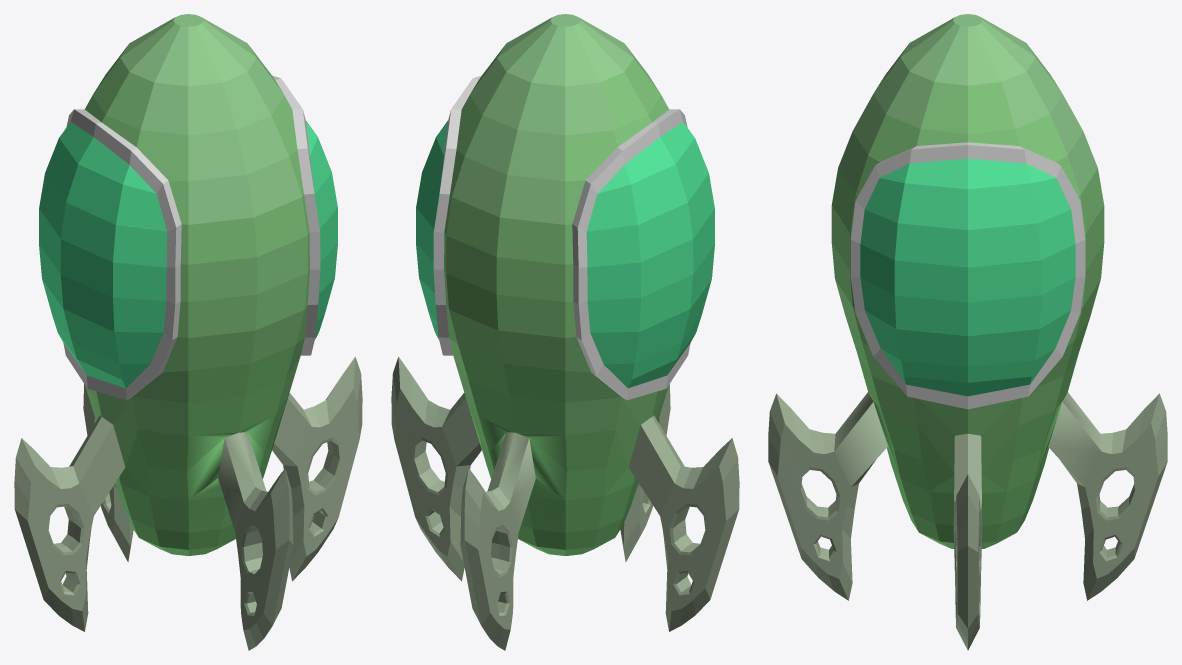
File: ufoRocket.fbx
The picture shows the model from 3 angles, left to right: view 1: azimuth 30°, elevation 25°; view 2: azimuth 150°, elevation 25°; view 3: azimuth 270°, elevation 25°; orthographic projection.
Parts seen in each view (by area): view 1: Circle; view 2: Circle; view 3: Circle.
Part boxes in pixels (x1=…): Circle: x1=14, y1=14, x2=362, y2=650; Circle: x1=391, y1=14, x2=739, y2=650; Circle: x1=768, y1=14, x2=1167, y2=650.
Bounding box in the file's own units: 364 × 586 × 365.
